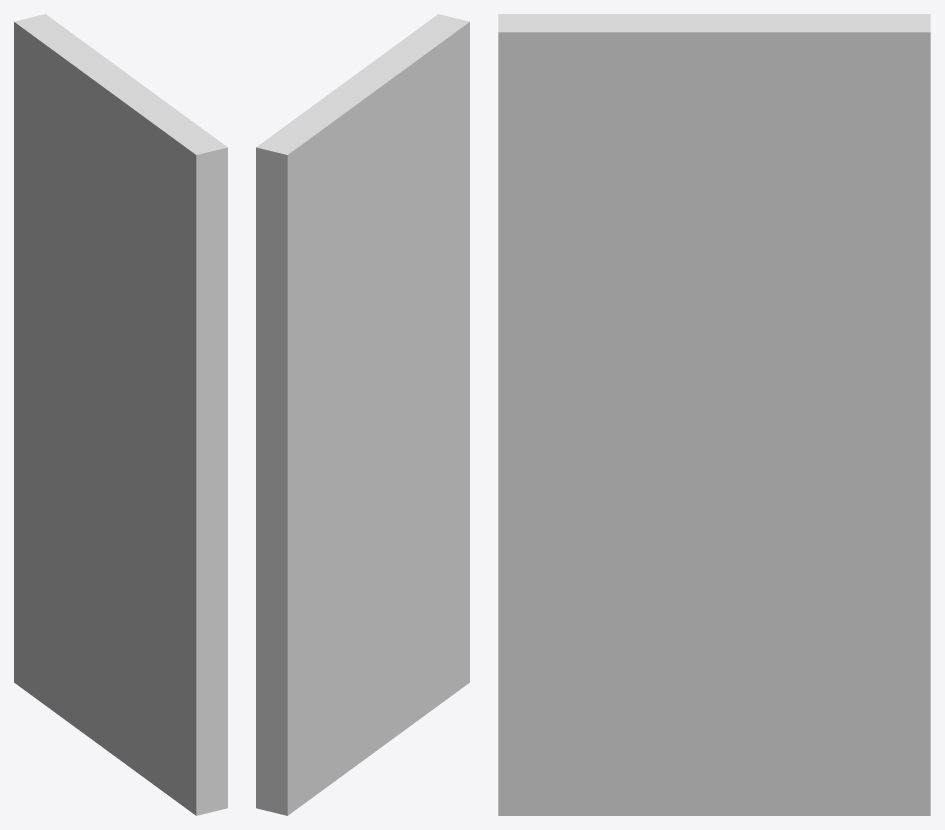
Rendered from SM_Build_Wand_Weiss.fbx.
3 views of the same model, side by side, from view 1: azimuth 30°, elevation 25°; view 2: azimuth 150°, elevation 25°; view 3: azimuth 270°, elevation 25° (orthographic). The views are drawn at different scales.
Parts seen in each view (by area): view 1: Wand Weiß; view 2: Wand Weiß; view 3: Wand Weiß.
Part boxes in pixels (box(x1,y1,x2,y2)): Wand Weiß: box(14, 14, 227, 815); Wand Weiß: box(256, 14, 469, 815); Wand Weiß: box(498, 14, 930, 815).
Size of the model in its own units: 0.2 by 4 by 2.
